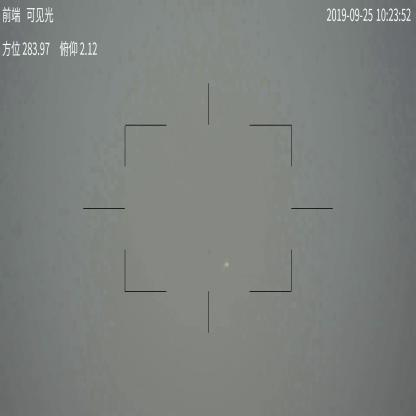uav: (223, 260, 230, 268)
